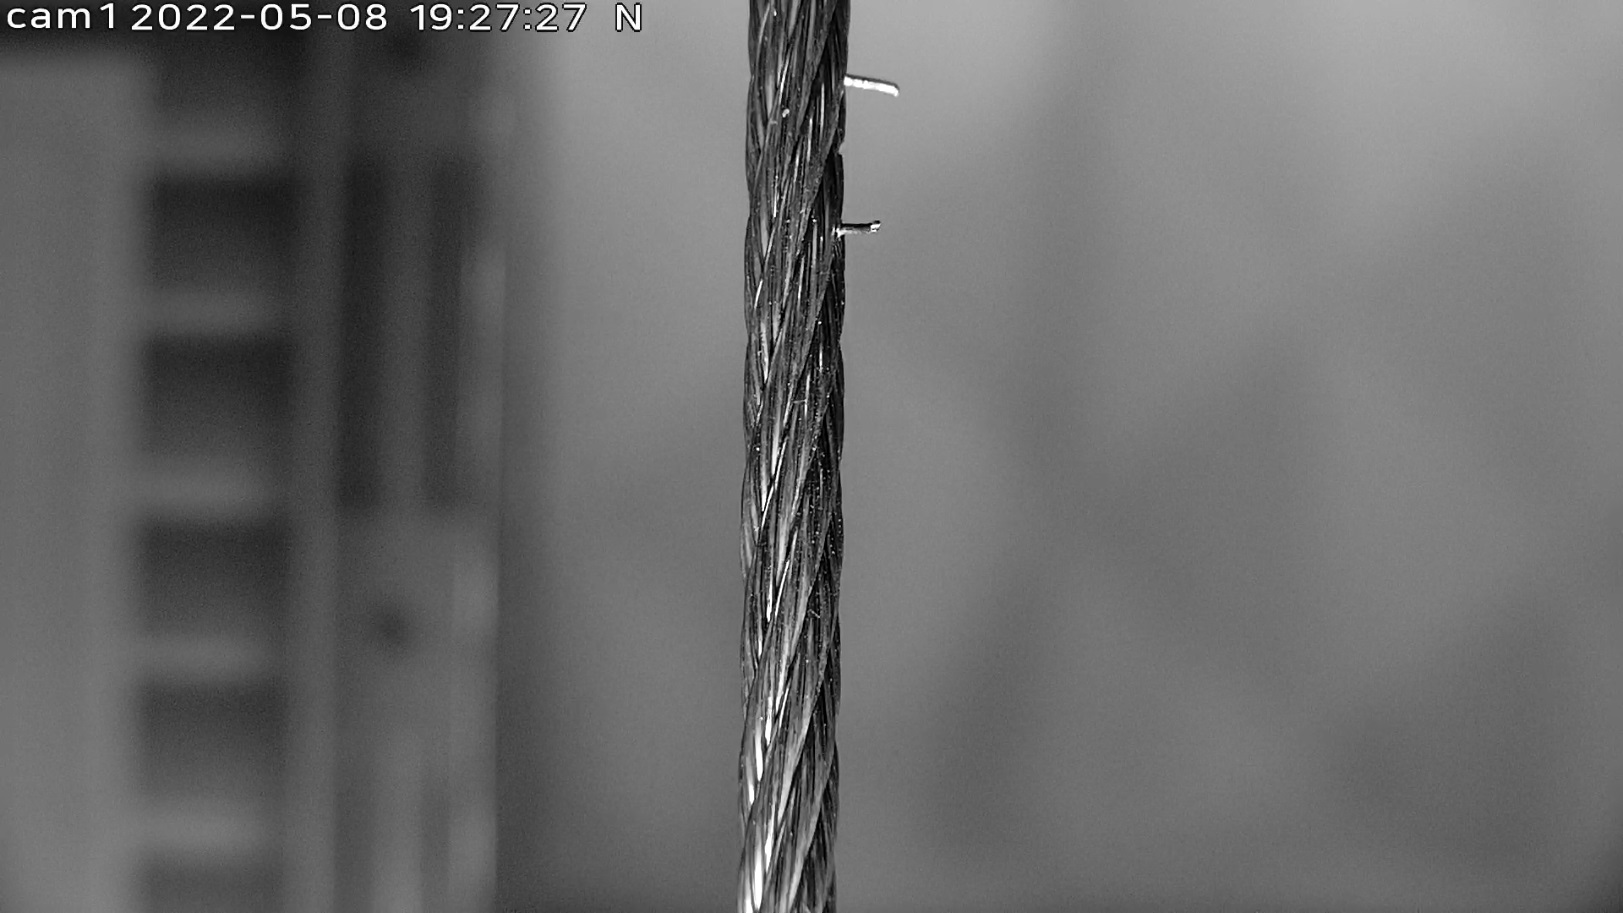gap: (838, 65, 906, 104), (834, 208, 894, 250)
